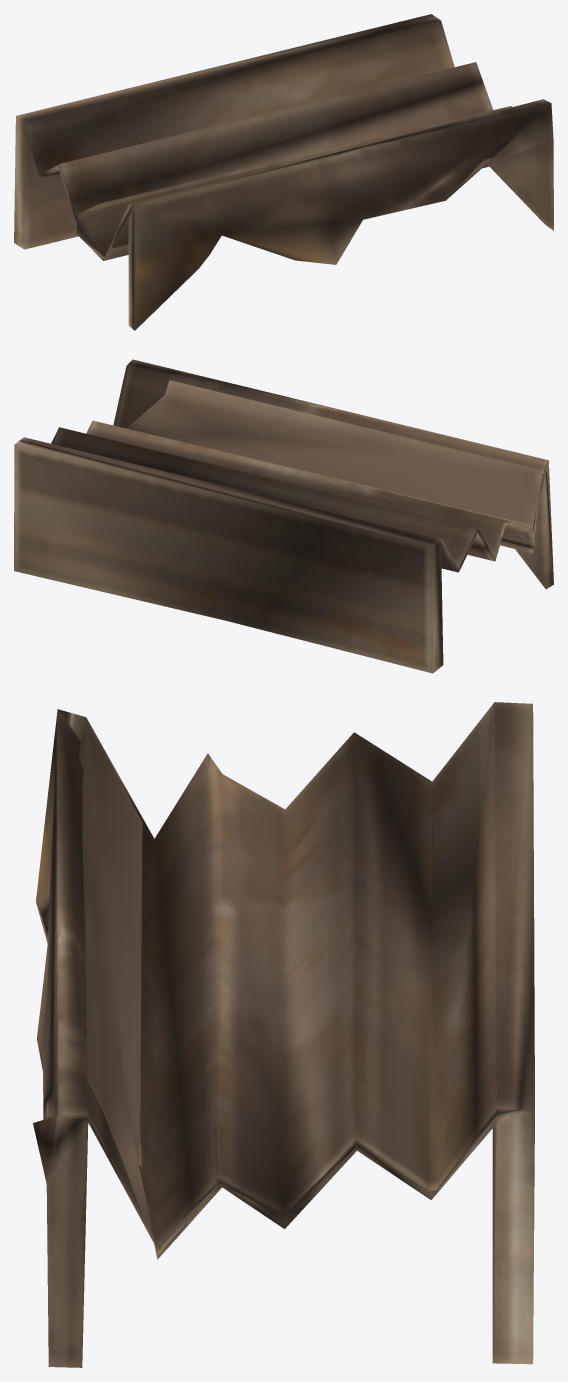
The model's file is Meshy_AI_Rusty_Metal_Ramp_0831075959_texture.fbx.
3 renders of one model, top to bottom at view 1: azimuth 30°, elevation 25°; view 2: azimuth 150°, elevation 25°; view 3: azimuth 270°, elevation 25°, orthographic. The views are drawn at different scales.
Parts seen in each view (by area): view 1: mesh_node; view 2: mesh_node; view 3: mesh_node.
Part boxes in pixels (<box>): mesh_node: <box>14,14,553,330</box>; mesh_node: <box>14,359,553,673</box>; mesh_node: <box>33,702,534,1367</box>.
Size of the model in its own units: 100 by 28.12 by 49.61.
1 material, 1 textured.
